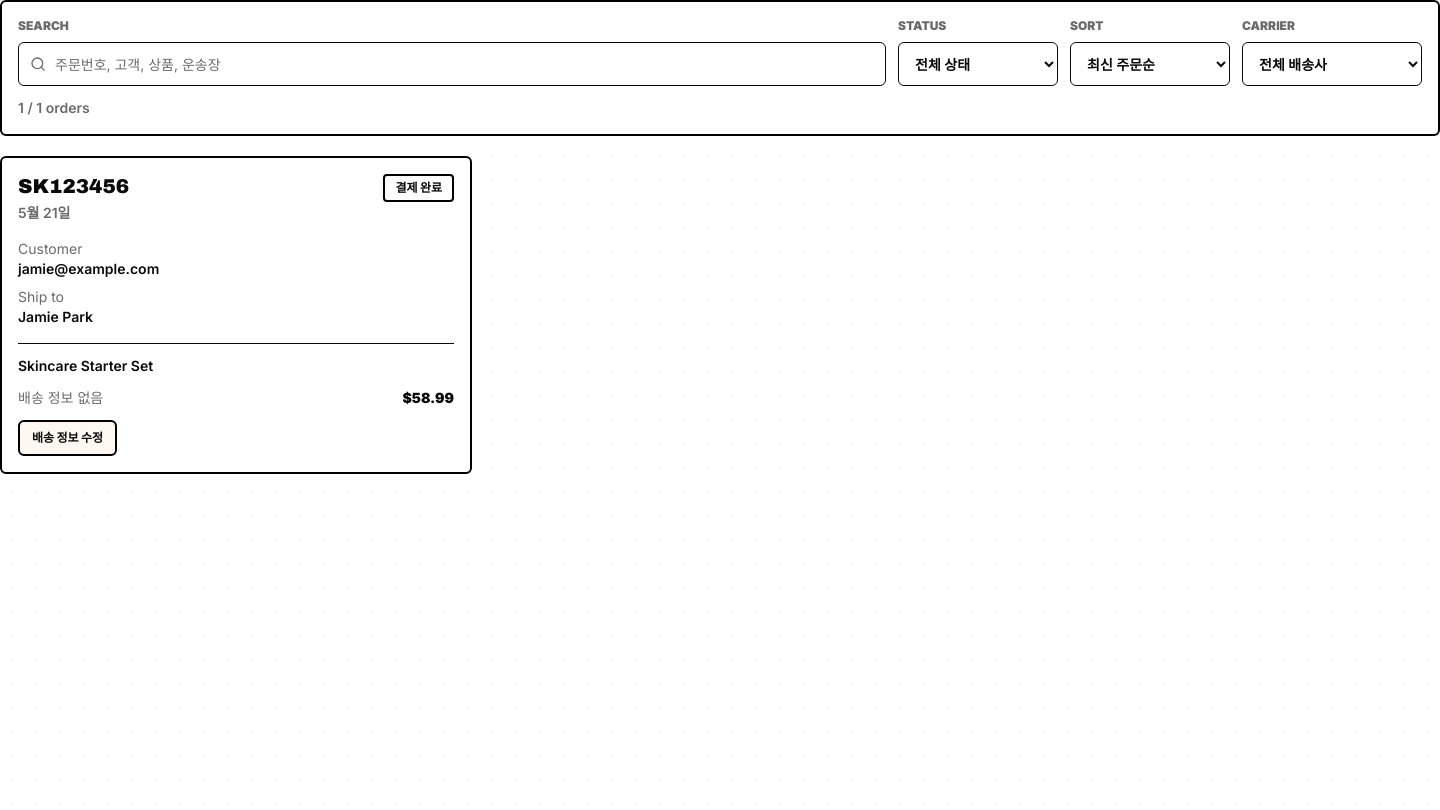
Scenario: AdminOrdersClient › closes the fulfillment dialog with Escape and returns focus to the order card
Click the button with test id "admin-order-order_1": {"x": 236, "y": 315} [0, 156, 472, 474]
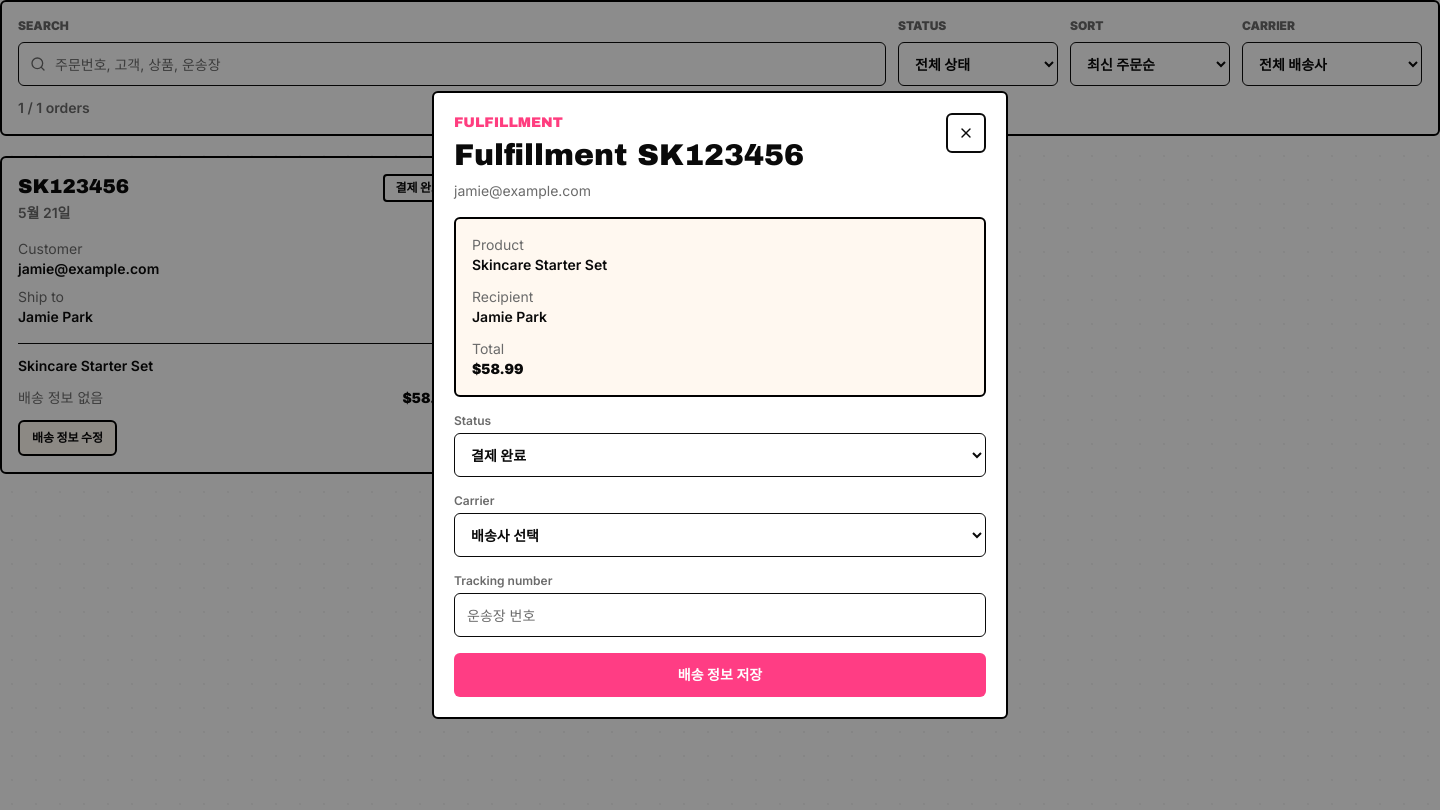
Check: the dialog is shown, box [432, 91, 1008, 719]
Press Escape
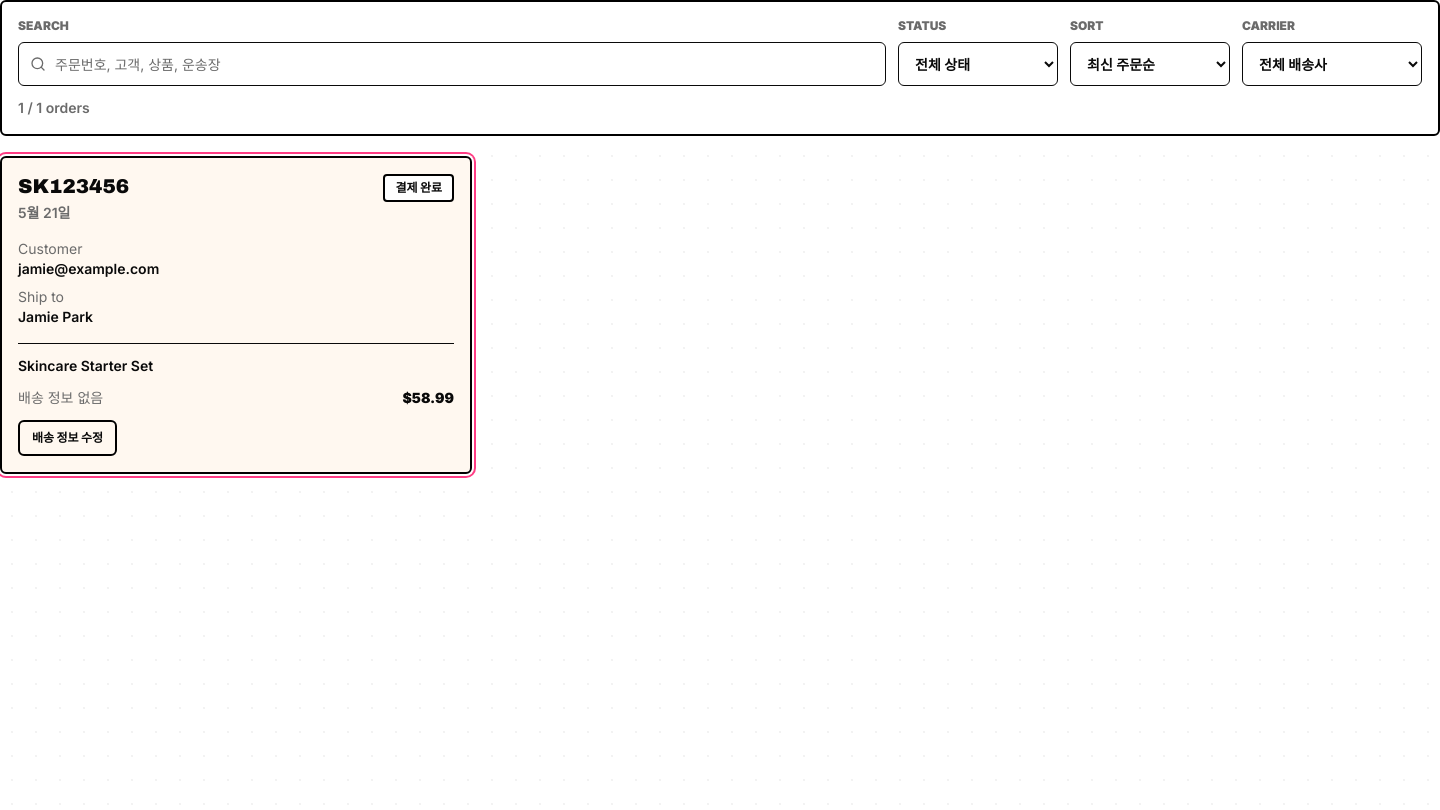
Check: the dialog is gone
